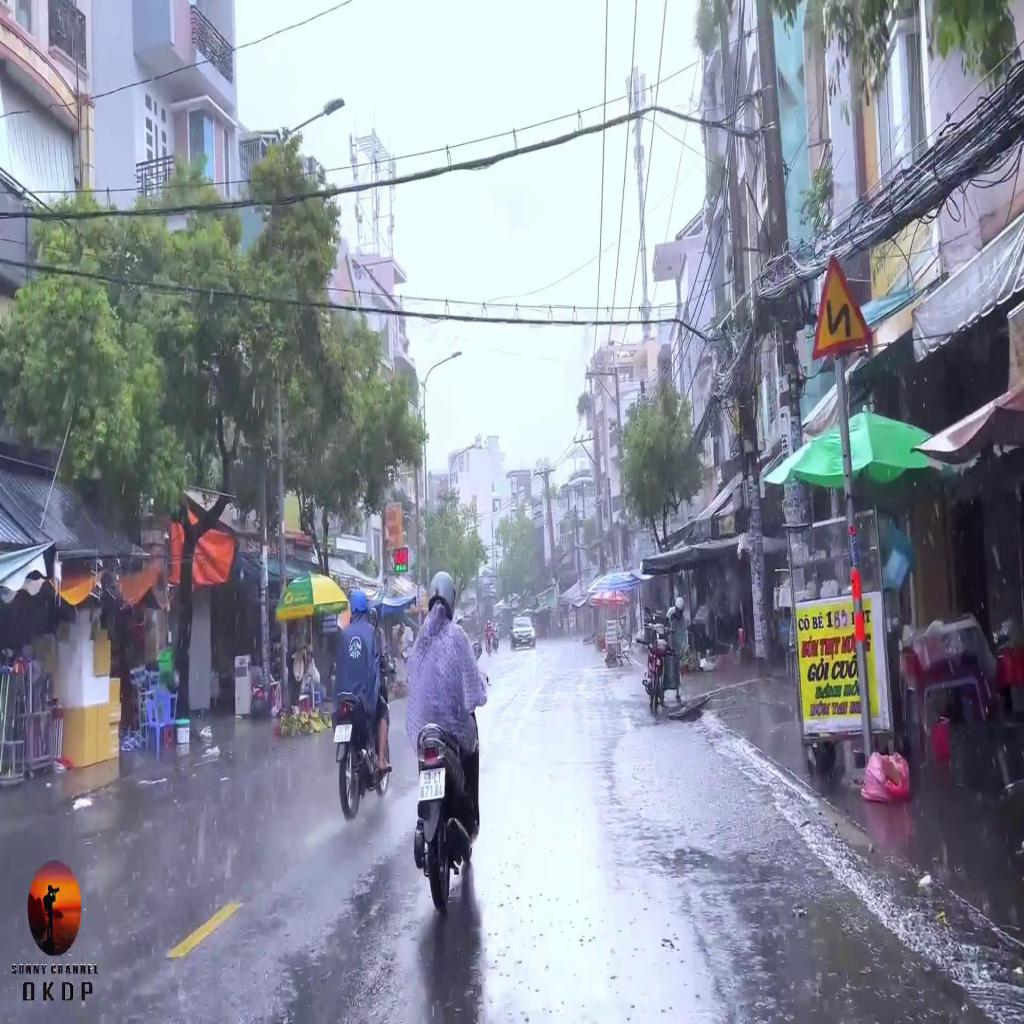cho_ngoat_nguy_hiem_lien_tiep: (810, 252, 872, 362)
